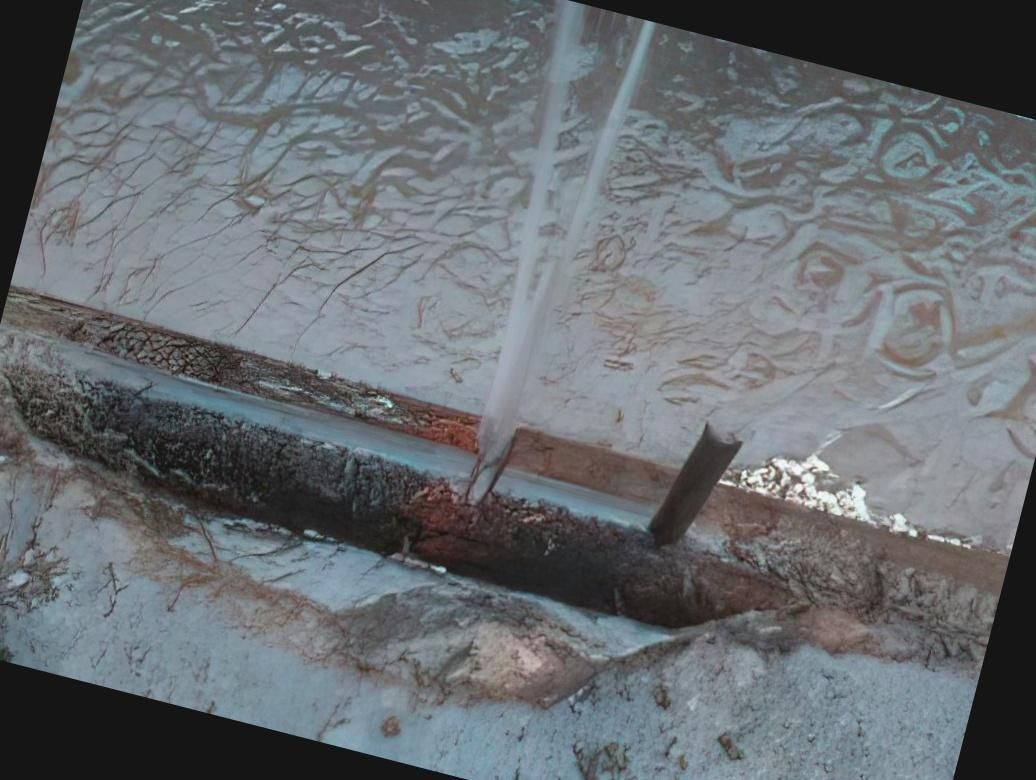pipe burst: (466, 0, 683, 483)
water accumulation: (4, 0, 1036, 615)
